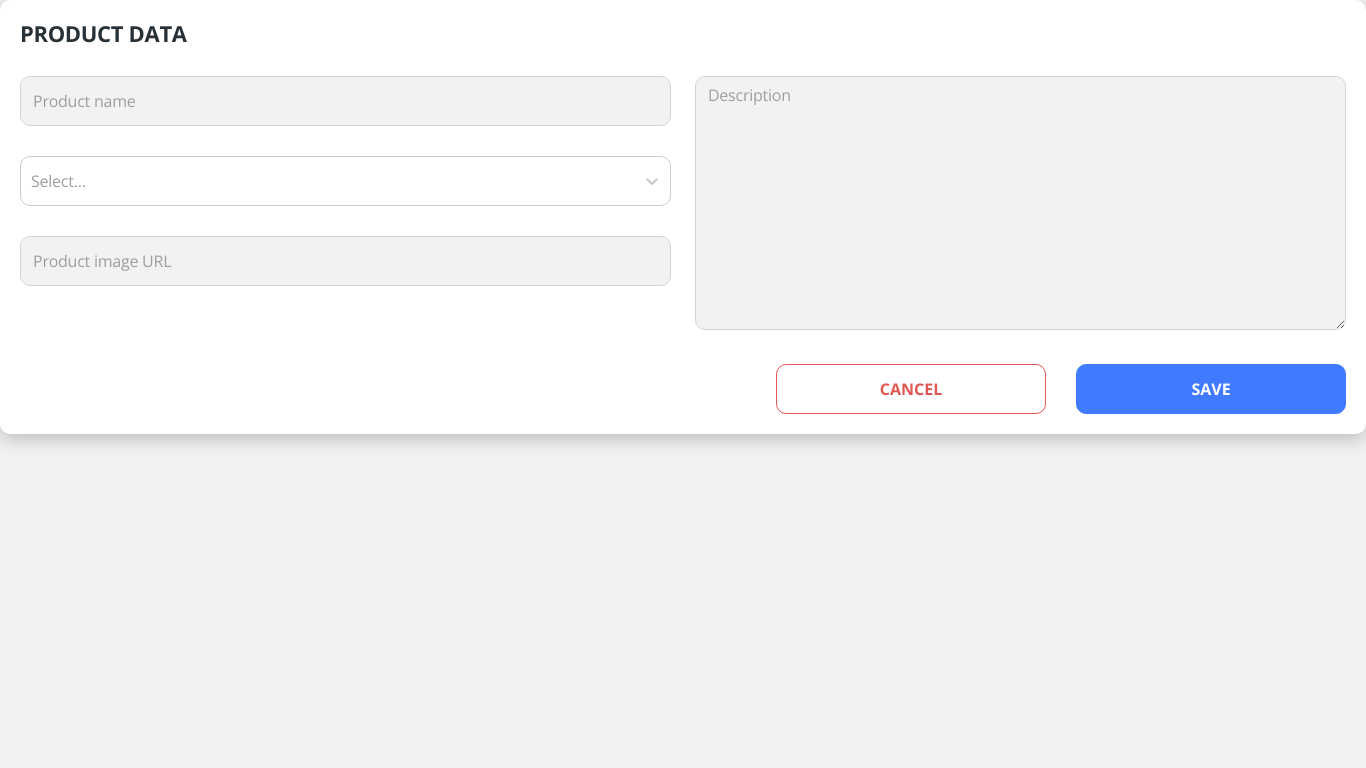
Product form create tests › should show 5 validation messages when clicking submit
Simulating button click:
Click the button "SAVE" at [1211, 389], box left=1076, top=364, right=1346, bottom=414
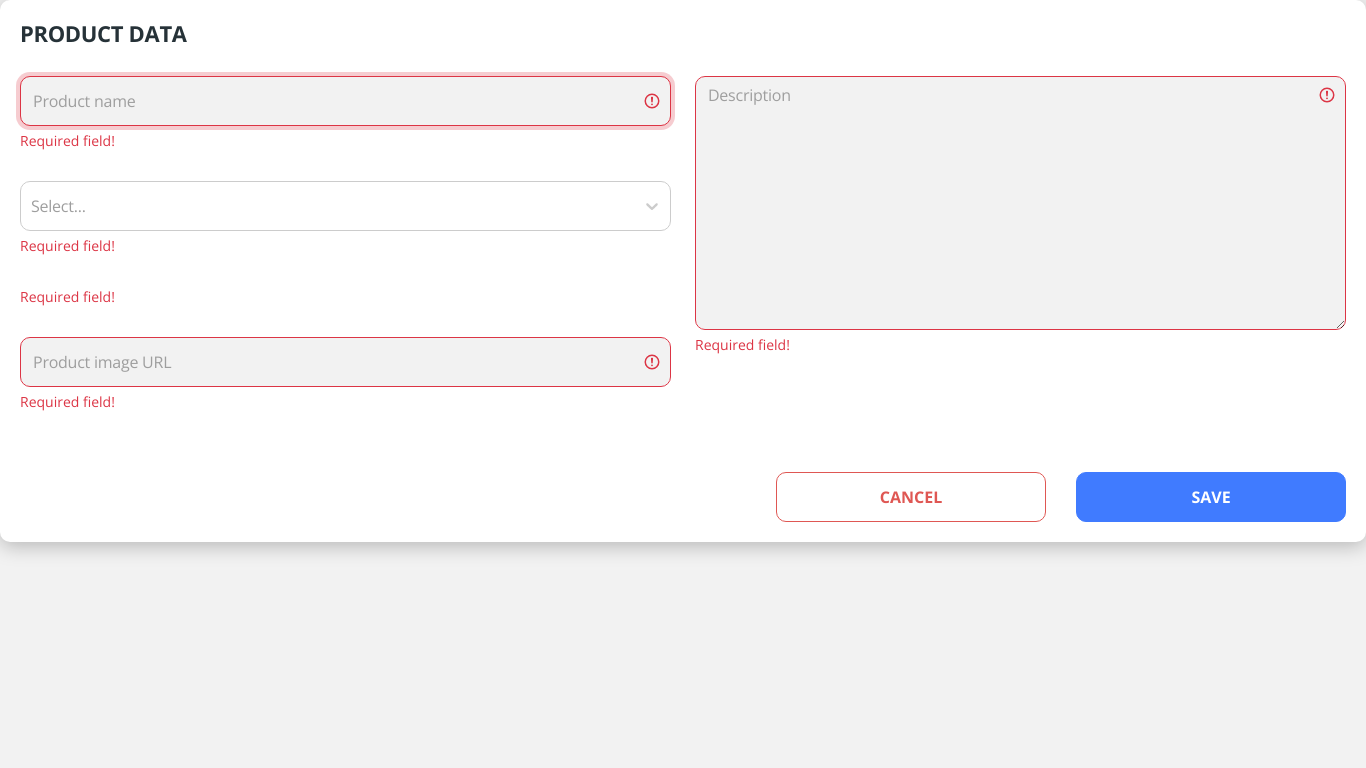
Check: the text "Required field!" is shown 5 times, box left=20, top=131, right=115, bottom=150; left=20, top=236, right=115, bottom=255; left=20, top=287, right=115, bottom=306; left=20, top=392, right=115, bottom=411; left=695, top=335, right=790, bottom=354
